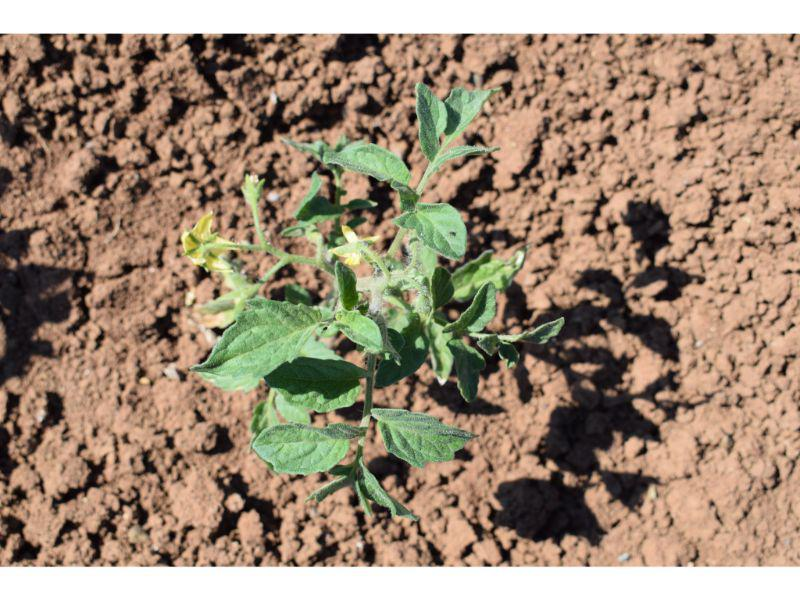tomato: (186, 79, 559, 523)
